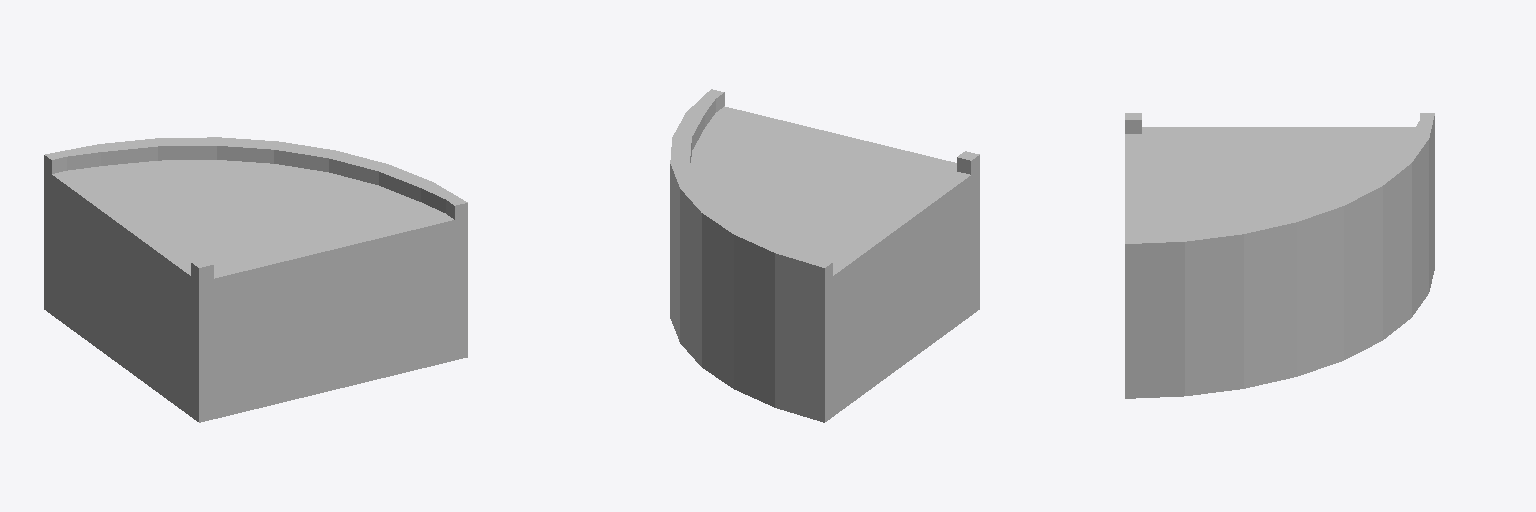
The model's file is bend_90.obj.
3 renders of one model, left to right at view 1: azimuth 30°, elevation 25°; view 2: azimuth 150°, elevation 25°; view 3: azimuth 270°, elevation 25°, orthographic.
Parts seen in each view (by area): view 1: 90_turn_Circle.009, 90_turn.001_Circle.001; view 2: 90_turn_Circle.009, 90_turn.001_Circle.001; view 3: 90_turn_Circle.009, 90_turn.001_Circle.001.
Boxes of the visible parts, x1,y1,x2,y2 form: 90_turn_Circle.009: [44, 137, 467, 422]; 90_turn.001_Circle.001: [52, 160, 453, 278]; 90_turn_Circle.009: [670, 89, 979, 422]; 90_turn.001_Circle.001: [691, 106, 970, 275]; 90_turn_Circle.009: [1125, 113, 1434, 398]; 90_turn.001_Circle.001: [1125, 127, 1415, 237].
Size of the model in its own units: 12 by 6.6 by 12.